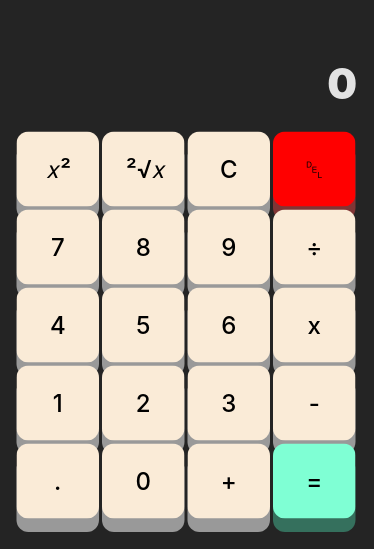
Test: Keyboard test › should handle squaring
The width and height of the screenshot is (374, 549).
Click the button "5" at (143, 325), box [102,288,184,362]
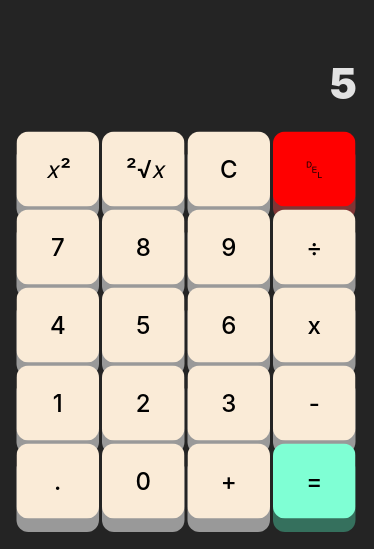
Click the button "𝑥²" at (58, 169), box [16,132,99,206]
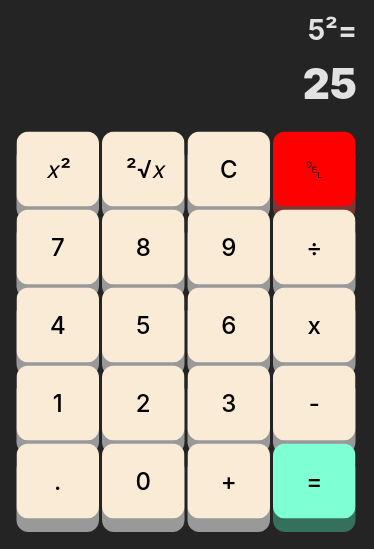
Expected: the text with test id "mainDisplayVal" reads "25", [303,58,357,109]
